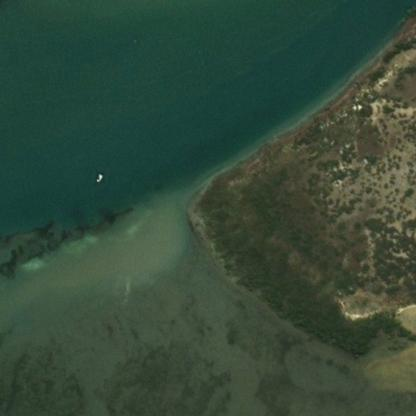ship: (89, 166, 110, 188)
